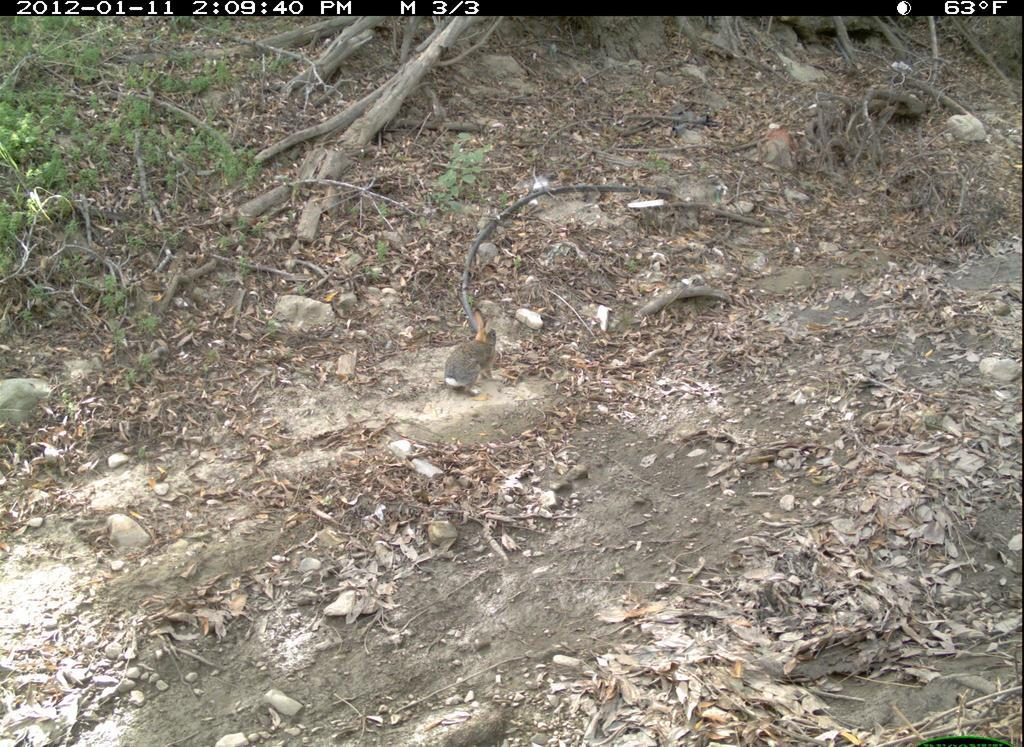rabbit: (443, 317, 506, 400)
